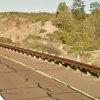Tree: (49, 2, 100, 56)
